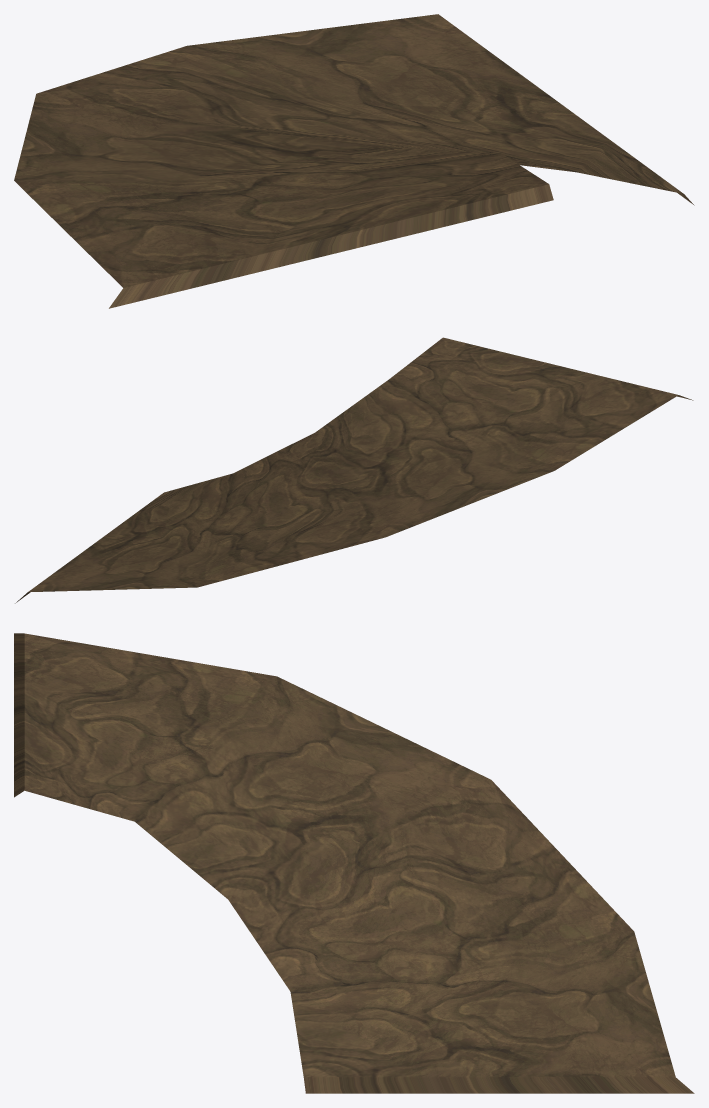
File: cave floor corner slope.FBX
The picture shows the model from 3 angles, top to bottom: view 1: azimuth 30°, elevation 25°; view 2: azimuth 150°, elevation 25°; view 3: azimuth 270°, elevation 25°; orthographic projection. The views are drawn at different scales.
Visible parts, largest first — view 1: cave floor corner slope; view 2: cave floor corner slope; view 3: cave floor corner slope.
Boxes of the visible parts, x1,y1,x2,y2 form: cave floor corner slope: [14, 14, 694, 308]; cave floor corner slope: [15, 337, 693, 603]; cave floor corner slope: [14, 633, 694, 1093].
Bounding box in the file's own units: 36.6 × 10.71 × 36.6.
